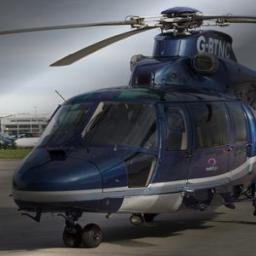helicopter: (7, 11, 256, 252)
